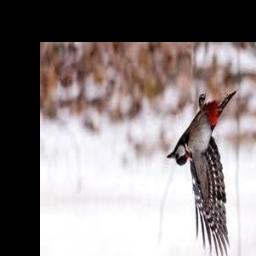Woodpecker: (167, 89, 236, 256)
